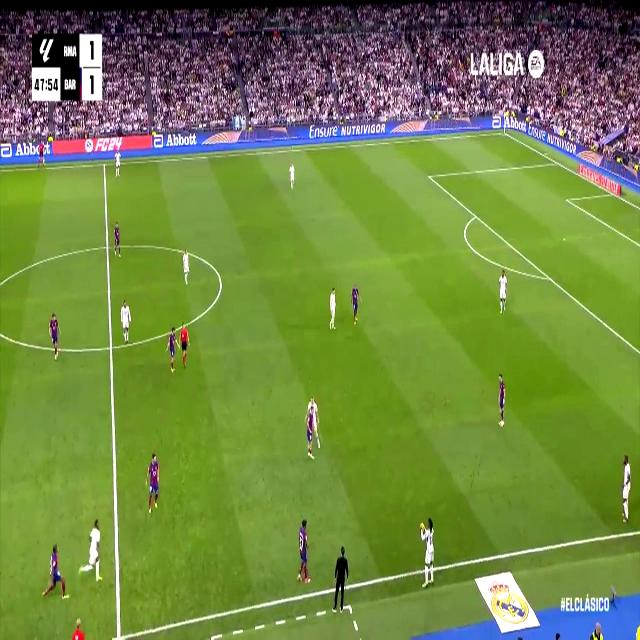bigarea_top_inner: (426, 169, 432, 183)
bottom_arc_area_intersection: (545, 270, 553, 286)
corner: (500, 128, 508, 137)
halfcircle_bottom: (106, 335, 116, 359)
halfcircle_top: (102, 237, 112, 256)
midline_top_intersection: (101, 158, 108, 170)
smallarea_top_inner: (564, 193, 570, 204)
top_arc_area_intersection: (472, 209, 479, 221)
